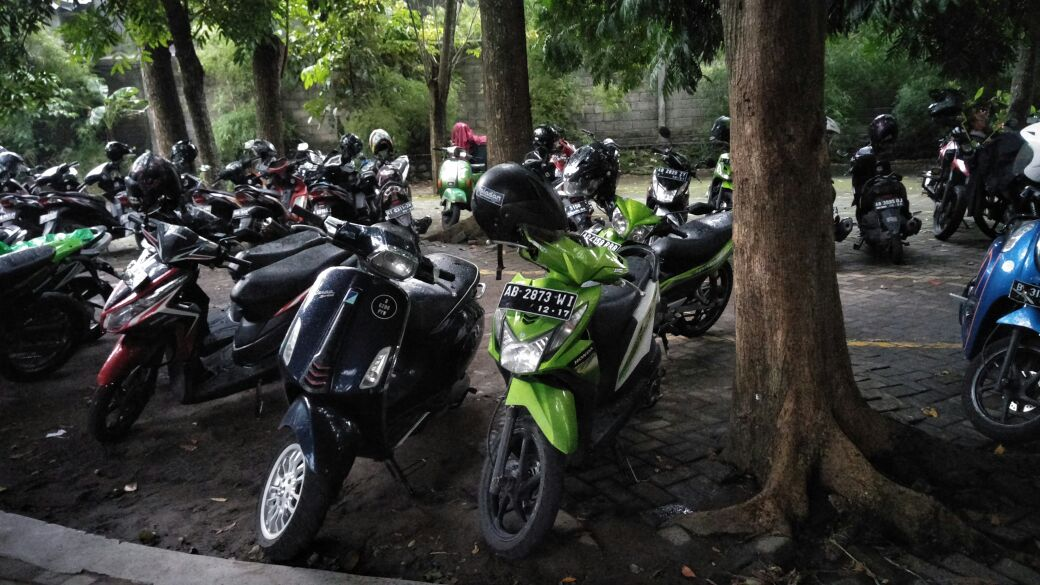plate: (499, 282, 578, 323)
